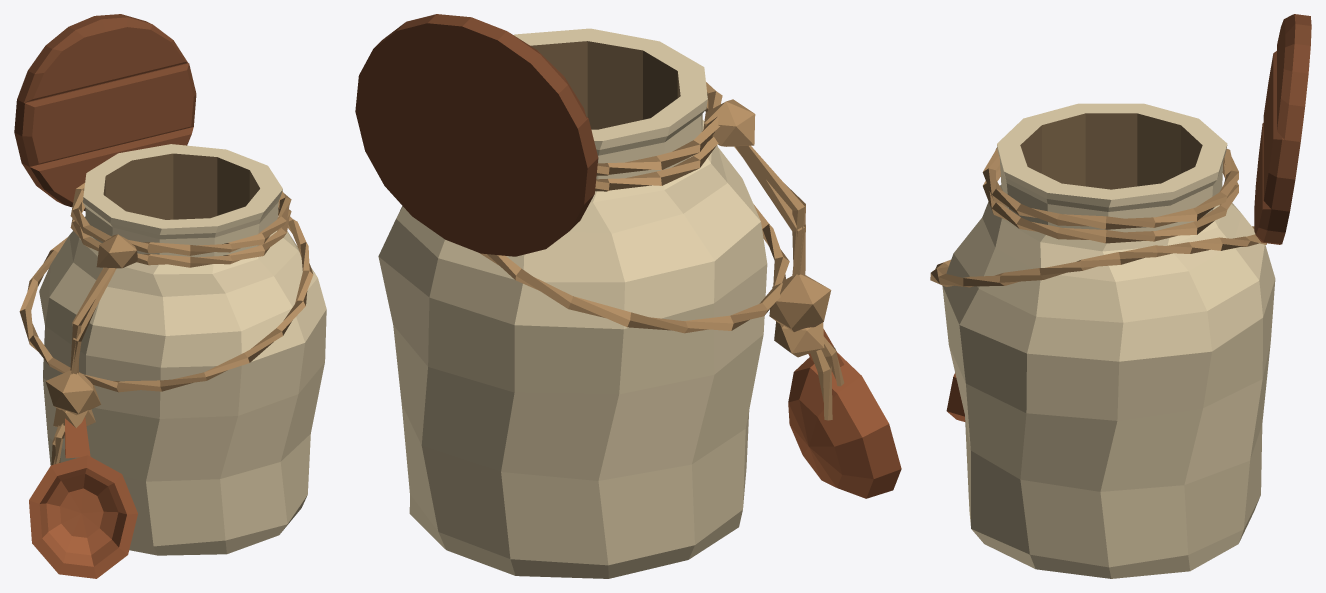
Rendered from empty.glb.
3 renders of one model, left to right at view 1: azimuth 30°, elevation 25°; view 2: azimuth 150°, elevation 25°; view 3: azimuth 270°, elevation 25°, orthographic. The views are drawn at different scales.
Visible parts, largest first — view 1: jar, lid, rope, scoop; view 2: jar, lid, rope, scoop; view 3: jar, rope, lid, scoop.
Part boxes in pixels (bbox=[...]): jar: bbox=[39, 144, 326, 555]; lid: bbox=[14, 14, 196, 210]; rope: bbox=[19, 183, 313, 465]; scoop: bbox=[29, 417, 137, 578]; jar: bbox=[378, 28, 767, 578]; lid: bbox=[355, 14, 598, 256]; rope: bbox=[479, 82, 844, 420]; scoop: bbox=[788, 329, 901, 498]; jar: bbox=[942, 103, 1275, 578]; rope: bbox=[930, 147, 1266, 287]; lid: bbox=[1254, 14, 1311, 244]; scoop: bbox=[946, 373, 965, 421].
Size of the model in its own units: 0.5101 by 0.653 by 0.4553.
